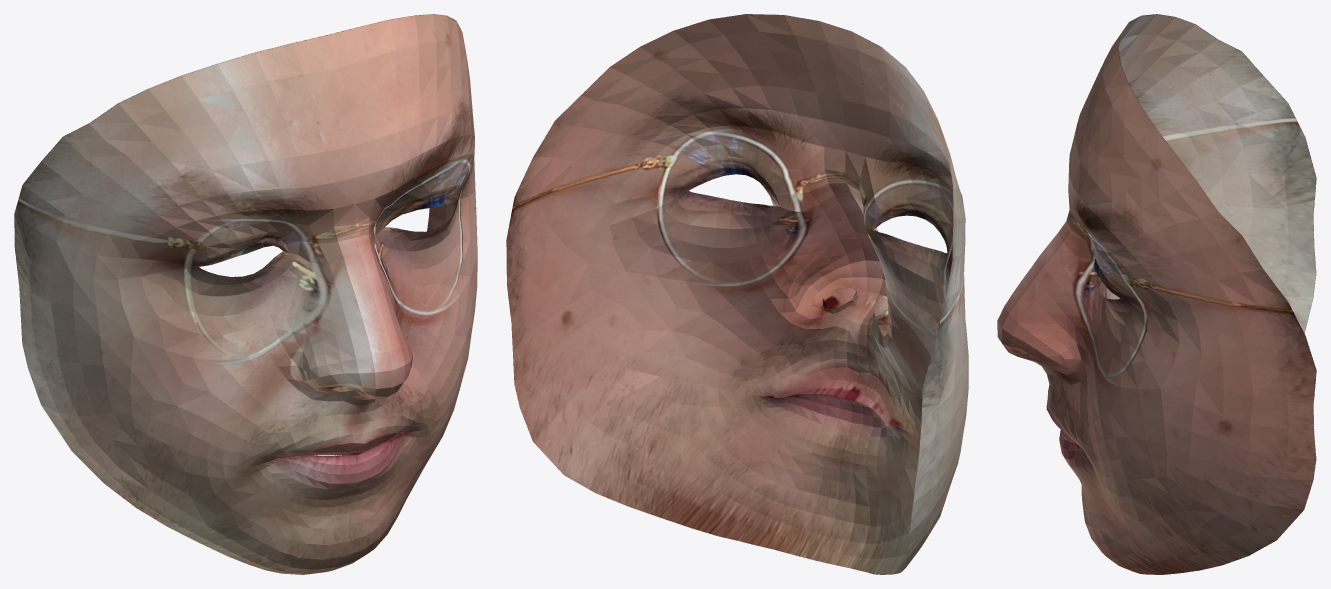
Rendered from bake_flat_eyes_2048px.obj.
3 views of the same model, side by side, from view 1: azimuth 30°, elevation 25°; view 2: azimuth 150°, elevation 25°; view 3: azimuth 270°, elevation 25° (orthographic). The views are drawn at different scales.
Visible parts, largest first — view 1: face; view 2: face; view 3: face.
Part boxes in pixels (x1,y1,x2,y2): face: (14,14,477,574); face: (506,14,968,574); face: (997,14,1316,574).
Bounding box in the file's own units: 0.1499 × 0.1789 × 0.1016.
1 material, 1 textured.
